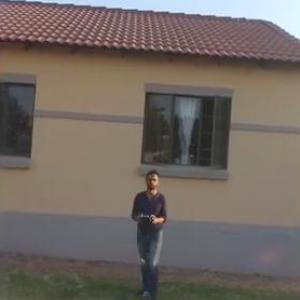follow: (126, 161, 172, 299)
